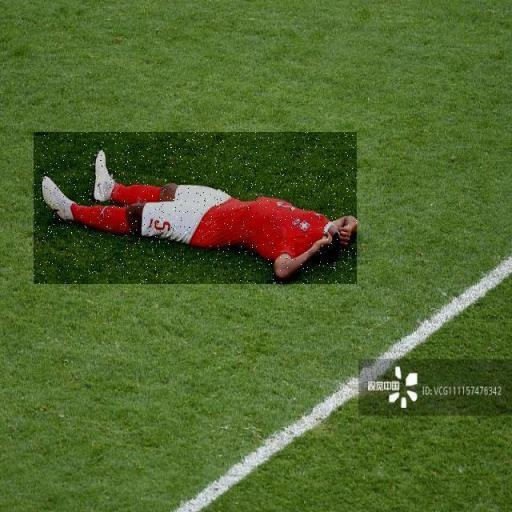Fall: (35, 132, 358, 284)
